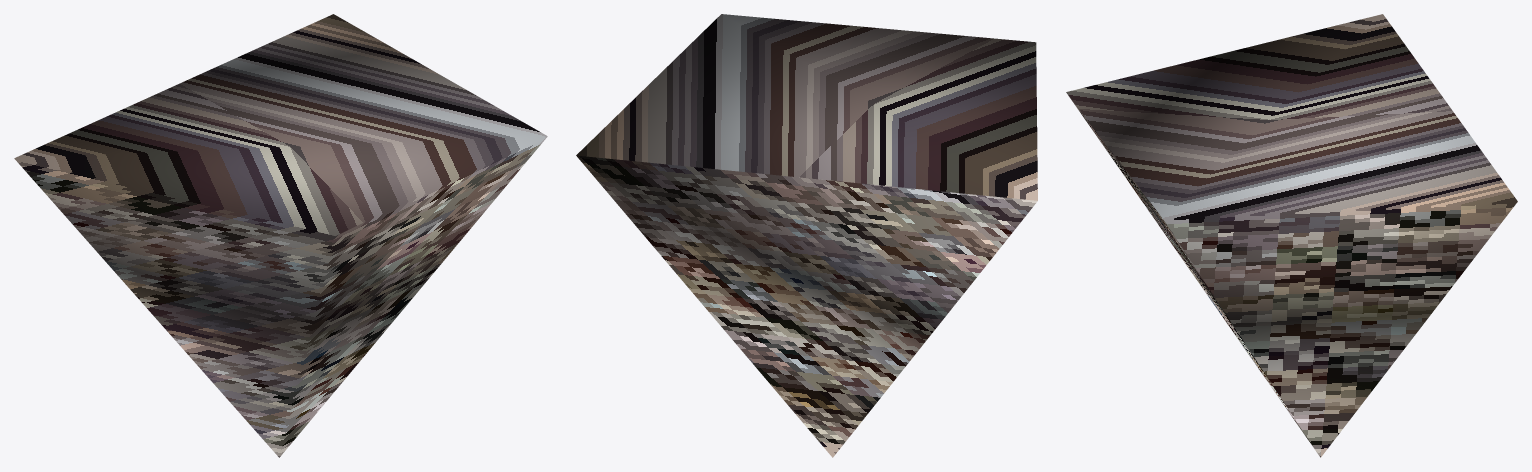
File: rock_tiny_purp_l2.fbx
3 renders of one model, left to right at view 1: azimuth 30°, elevation 25°; view 2: azimuth 150°, elevation 25°; view 3: azimuth 270°, elevation 25°, orthographic. The views are drawn at different scales.
Visible parts, largest first — view 1: mesh_node; view 2: mesh_node; view 3: mesh_node.
Part boxes in pixels (<box>): mesh_node: <box>14,14,547,457</box>; mesh_node: <box>576,14,1037,457</box>; mesh_node: <box>1066,14,1517,457</box>.
Size of the model in its own units: 0.5328 by 0.4015 by 0.4972.
